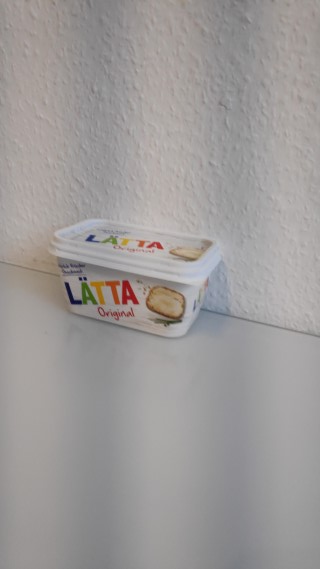laetta: (46, 216, 224, 340)
